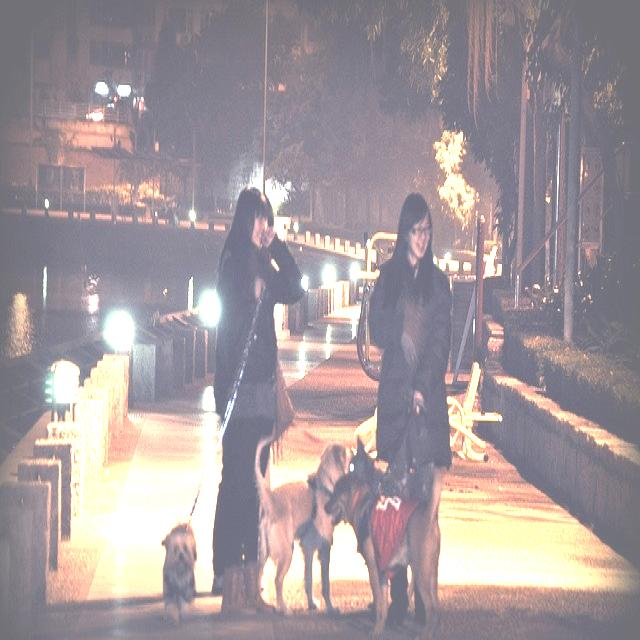Dog: (330, 432, 451, 605), (265, 422, 368, 598), (127, 497, 199, 624)
